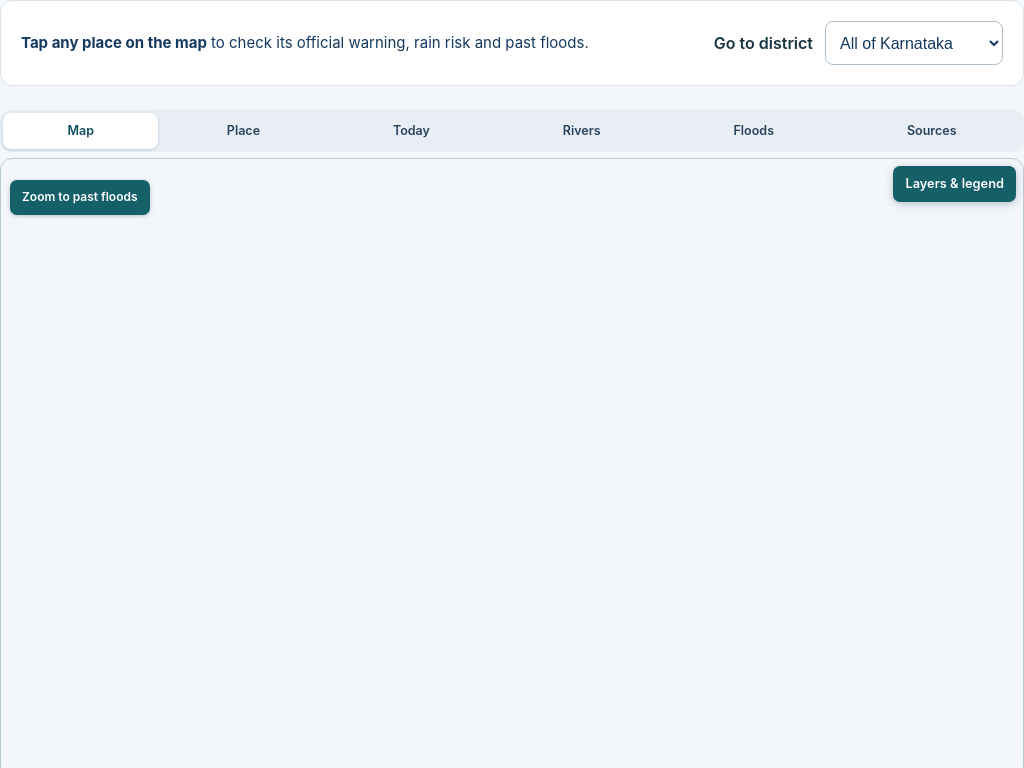
when the AI model flags a flood but GloFAS is low, the row says the models disagree and the marker gets a red ring
The width and height of the screenshot is (1024, 768).
Click the tab "Rivers": [582, 131] box [498,113,665,149]
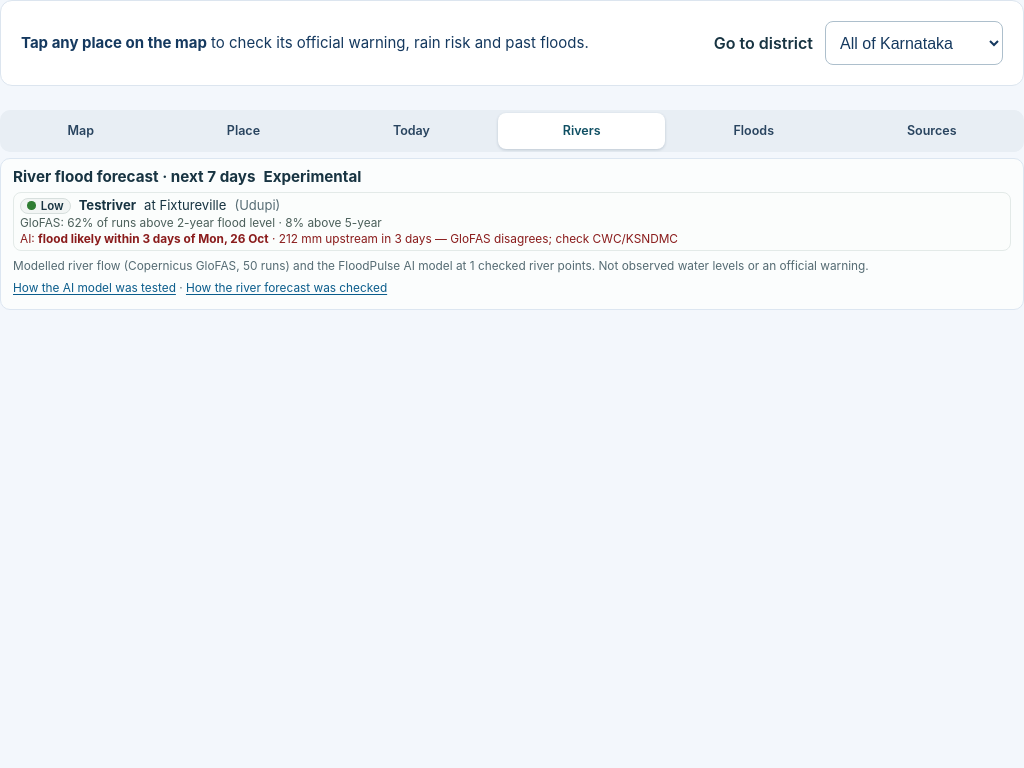
Check: the text "GloFAS disagrees; check CWC/KSNDMC" is shown, box [432,232,678,246]
